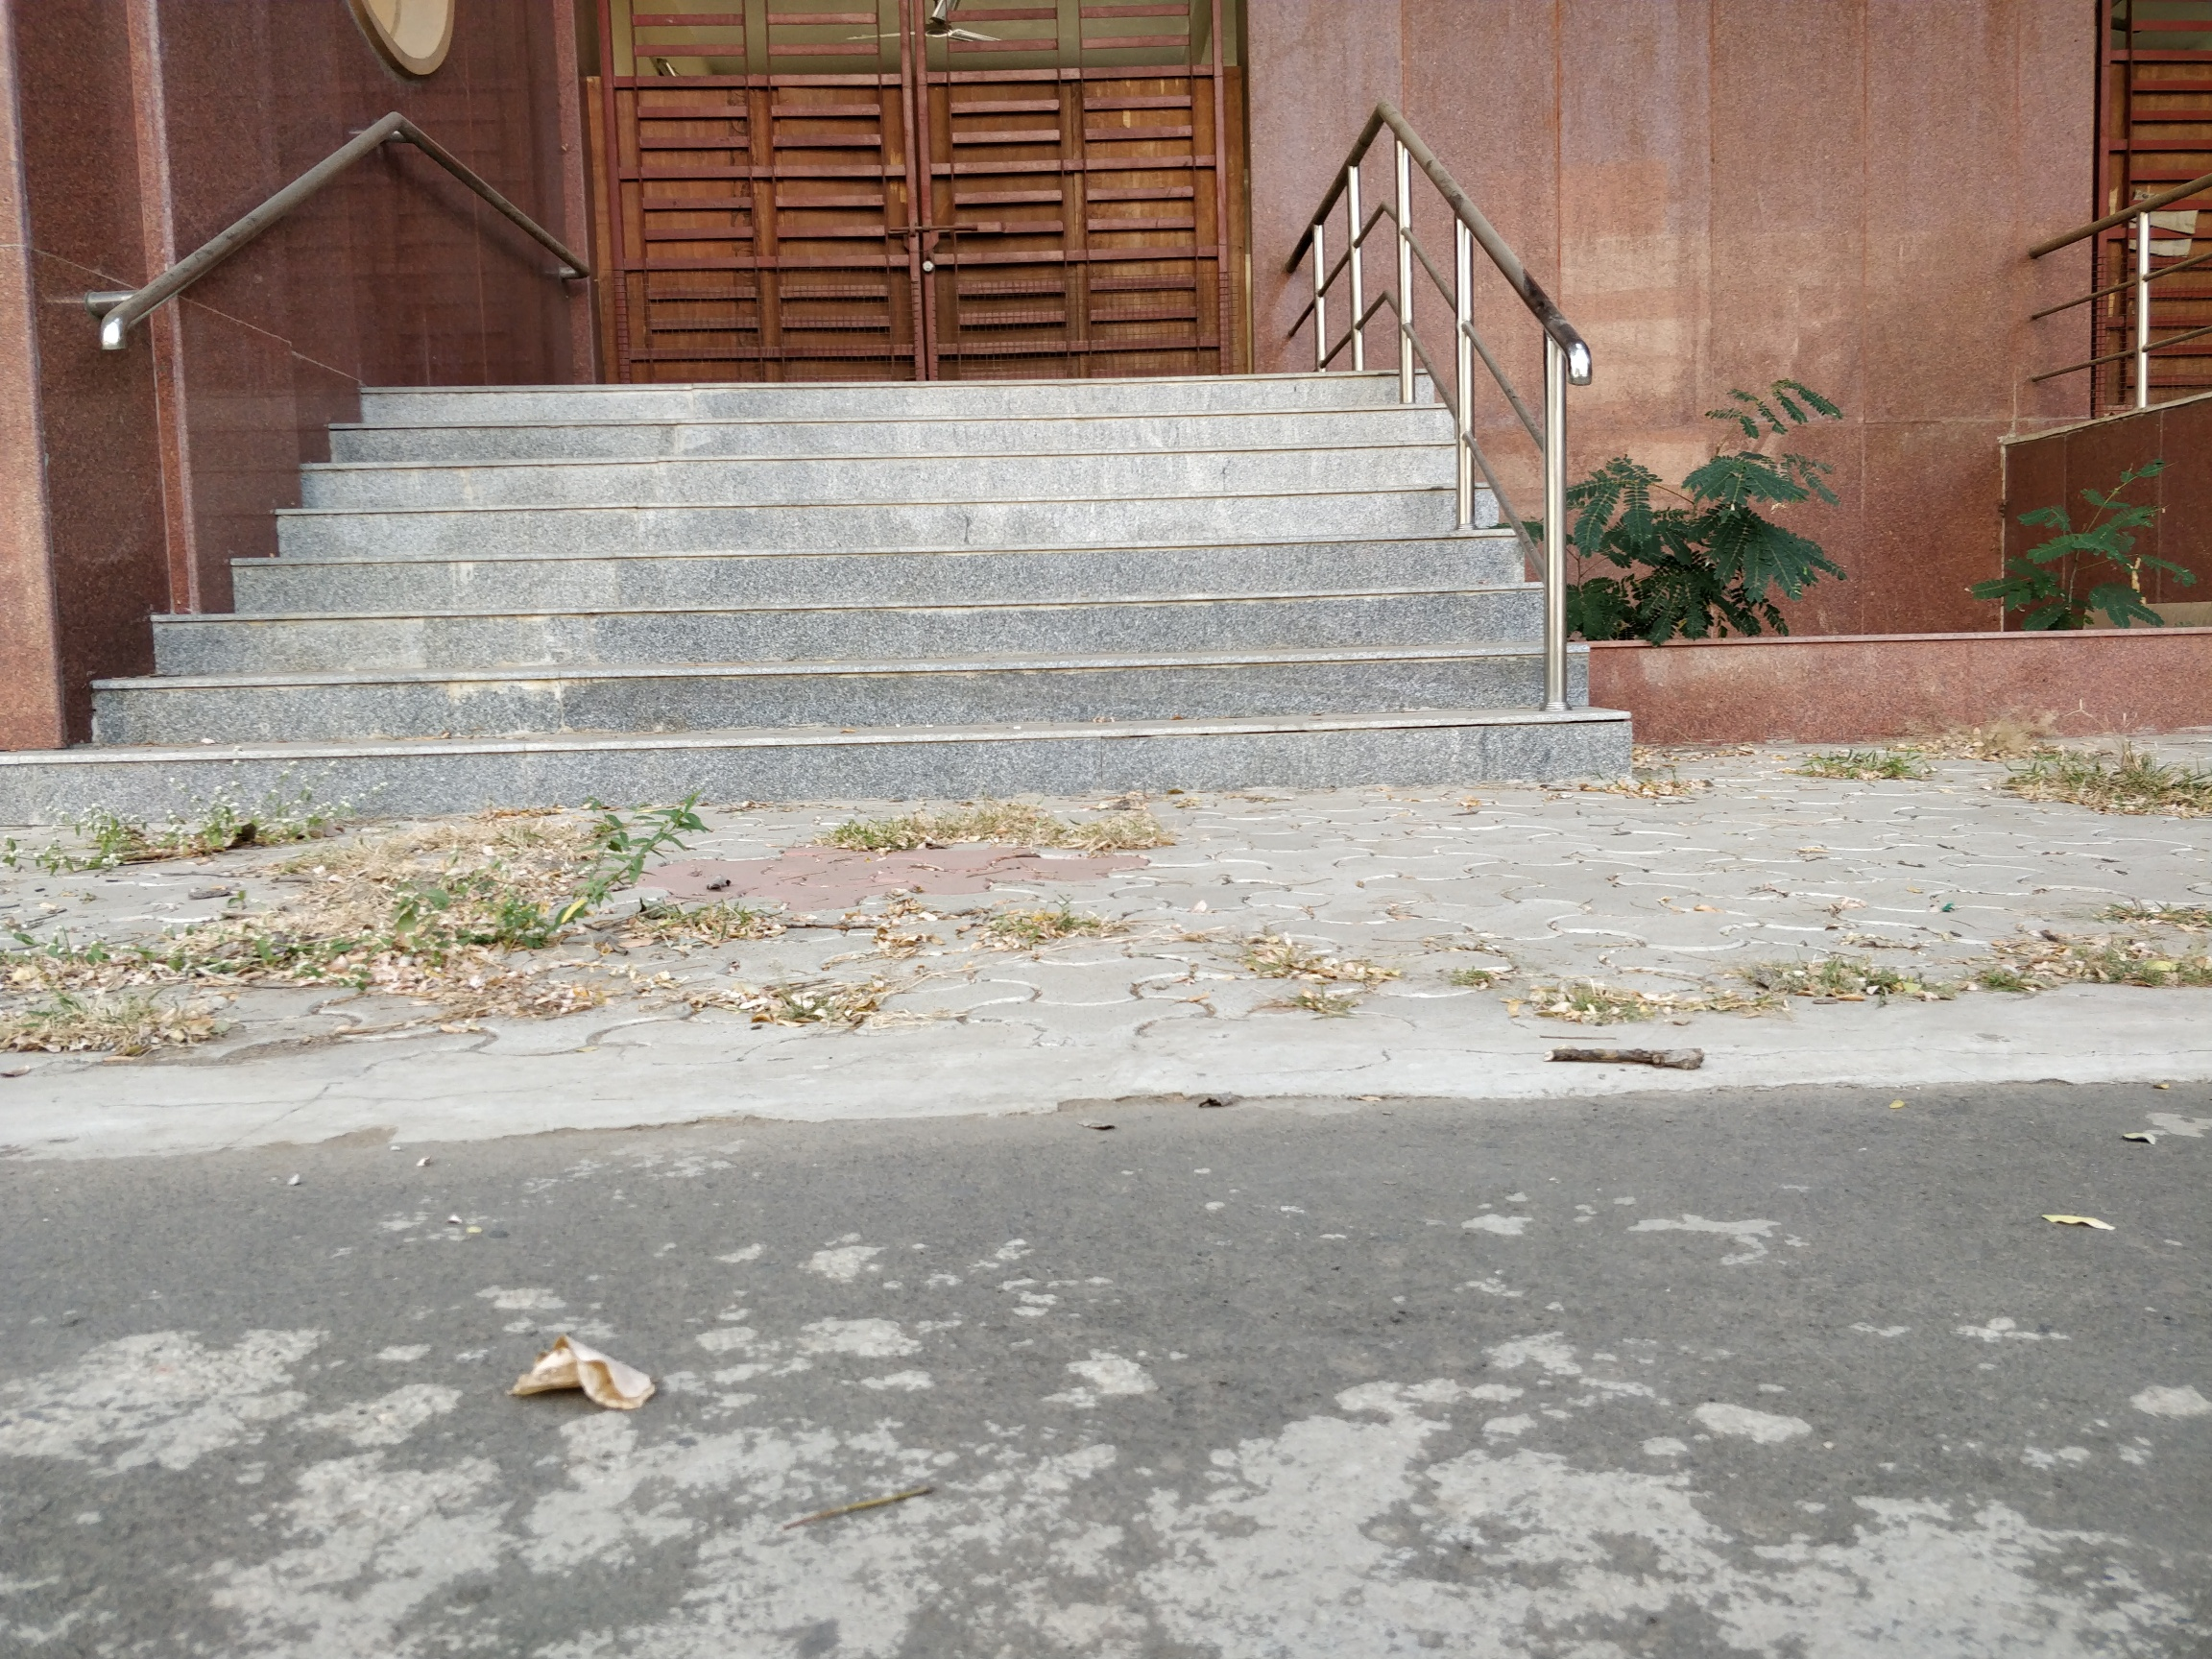stairs_up: (57, 352, 1648, 833)
